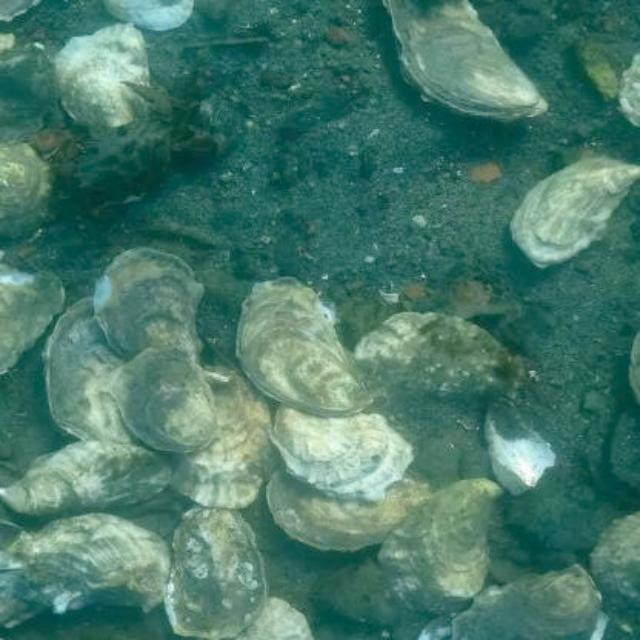Oyster-Closed: (43, 296, 171, 457), (0, 513, 173, 628), (386, 0, 549, 121), (237, 277, 374, 417), (381, 477, 503, 619), (161, 364, 273, 508), (354, 313, 519, 407), (511, 157, 638, 267), (273, 404, 413, 502), (266, 469, 435, 550), (165, 505, 269, 636), (0, 438, 173, 515), (92, 246, 204, 359), (111, 346, 219, 452), (452, 564, 606, 638), (54, 24, 149, 135), (485, 401, 558, 498), (0, 267, 67, 372), (0, 47, 60, 142), (0, 141, 54, 240), (589, 511, 638, 618), (237, 598, 317, 638), (103, 0, 195, 31)
